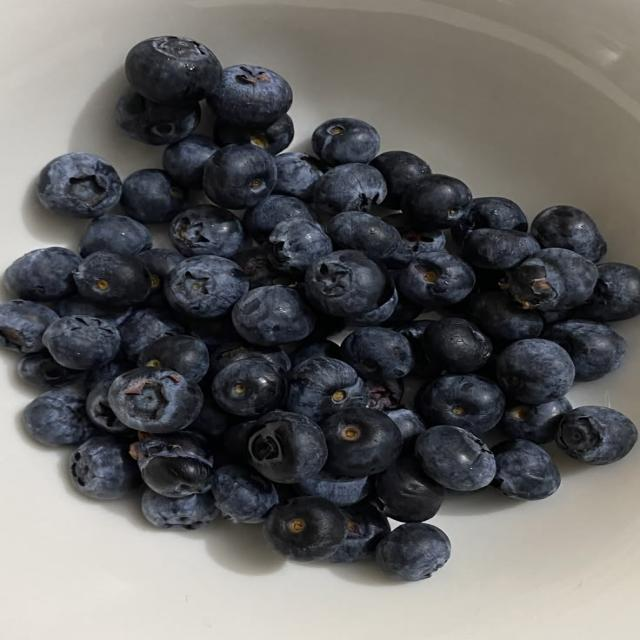blueberry: (125, 36, 222, 103), (108, 367, 202, 433), (248, 411, 327, 483), (508, 248, 598, 310), (321, 408, 402, 476), (306, 250, 387, 317), (415, 375, 505, 435), (130, 432, 213, 497), (37, 153, 121, 217), (264, 497, 346, 561), (165, 256, 248, 319), (416, 426, 496, 491), (207, 65, 292, 126), (287, 357, 368, 420), (543, 320, 626, 381), (497, 339, 574, 404), (232, 286, 315, 346), (556, 406, 638, 465), (116, 89, 200, 145), (203, 145, 276, 209), (397, 251, 475, 310), (376, 455, 444, 522), (70, 436, 140, 499), (376, 523, 451, 581), (212, 358, 286, 416), (4, 247, 81, 302), (531, 206, 606, 262), (74, 252, 151, 306), (43, 316, 120, 370), (492, 440, 560, 499), (23, 390, 93, 446), (422, 318, 493, 373), (169, 205, 244, 257), (467, 291, 544, 341), (328, 502, 390, 563), (213, 465, 278, 523), (576, 263, 639, 322), (402, 175, 472, 228), (267, 218, 333, 274), (314, 164, 386, 215), (341, 327, 413, 378), (121, 169, 186, 224), (371, 151, 431, 209), (119, 308, 183, 362), (327, 212, 400, 259), (452, 197, 528, 242), (384, 213, 446, 268), (243, 195, 314, 242), (500, 398, 572, 444), (138, 336, 209, 382), (312, 118, 379, 166), (214, 115, 294, 155), (0, 300, 59, 354), (462, 229, 539, 270), (142, 489, 219, 530), (80, 214, 152, 257), (163, 135, 219, 189), (391, 320, 440, 378), (349, 272, 399, 327), (86, 380, 135, 435), (138, 248, 184, 306), (232, 246, 293, 289), (274, 153, 327, 202), (296, 472, 371, 506), (210, 342, 291, 373), (56, 296, 132, 326), (18, 352, 80, 388), (189, 396, 232, 442), (187, 315, 241, 351), (138, 248, 184, 288), (216, 421, 258, 463), (387, 408, 426, 452), (83, 360, 133, 394), (382, 290, 422, 328), (290, 340, 339, 367), (366, 378, 404, 411), (307, 310, 346, 340), (539, 310, 573, 326)
